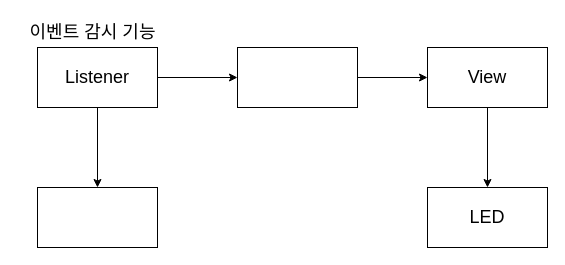
Some shapes in this 565 by 265 pixel diagram are drawn without their labels. Each missing label, with the centre of its shape:
Button: the point at 97,217
controller: the point at 297,77
